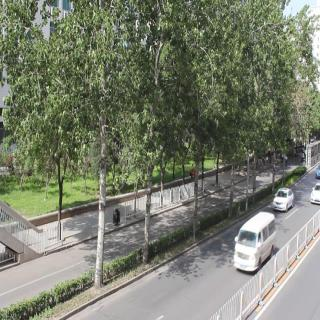Car: (237, 214, 276, 268), (274, 187, 292, 212), (309, 182, 320, 204)
